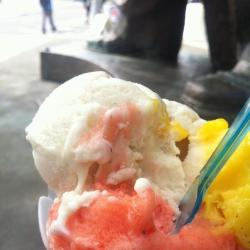icecream: (29, 68, 194, 242)
